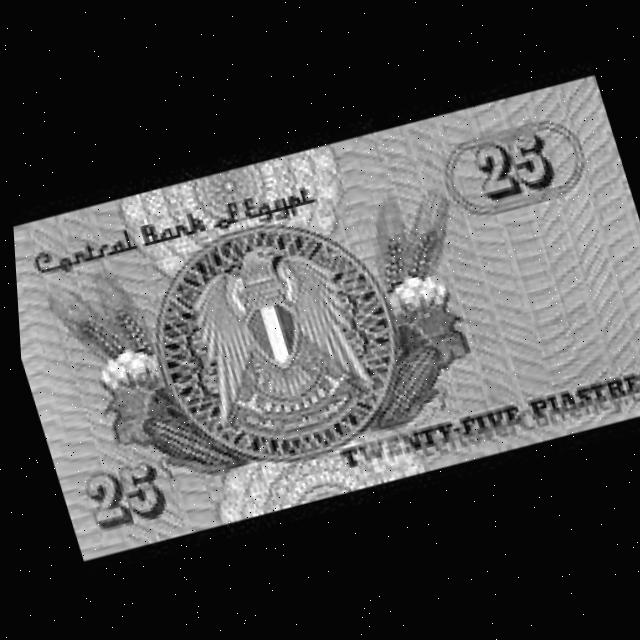banknote: (4, 73, 640, 561)
